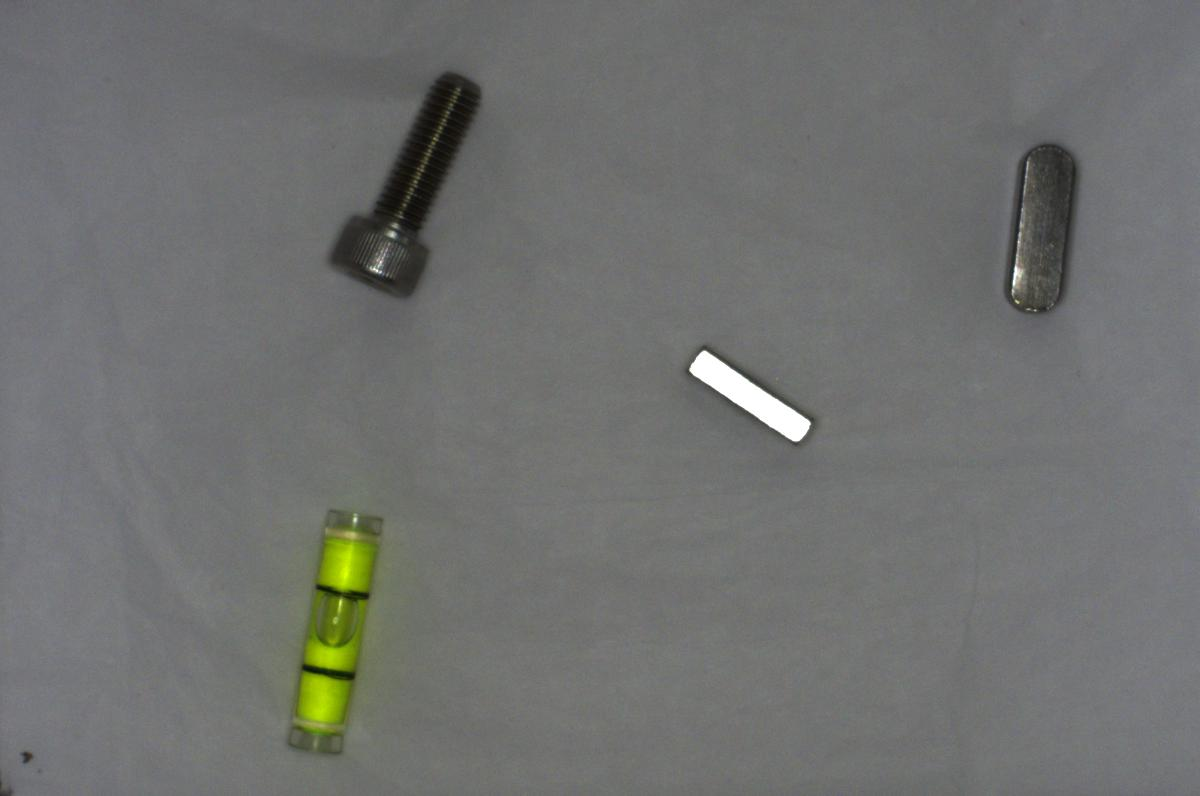Hexagon screw: (317, 68, 486, 296)
Horizontal bubble: (275, 500, 386, 756)
Keybar: (980, 134, 1097, 321)
Rectangular nut: (681, 338, 824, 453)
